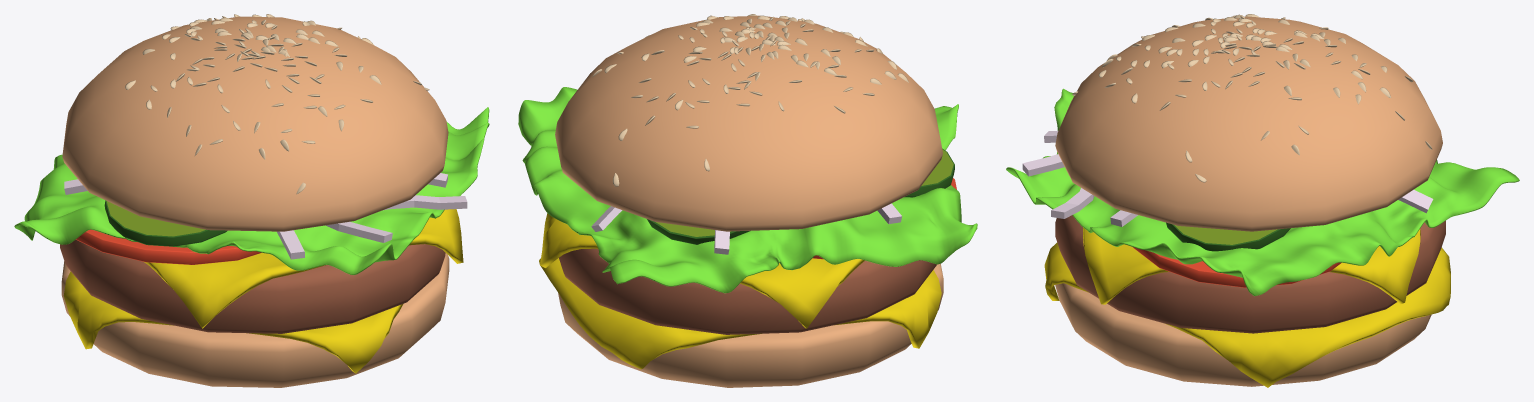
File: burger.glb
3 renders of one model, left to right at view 1: azimuth 30°, elevation 25°; view 2: azimuth 150°, elevation 25°; view 3: azimuth 270°, elevation 25°, orthographic.
Visible parts, largest first — view 1: buntop, meat, bunbottom, salade, cheesetop, cheesebottom, tomatethird, oignon, pickle1; view 2: buntop, salade, meat, bunbottom, cheesebottom, cheesetop, oignon, pickle3, pickle1; view 3: buntop, salade, meat, bunbottom, cheesebottom, cheesetop, oignon, pickle5, tomatefirst.
Boxes of the visible parts, x1,y1,x2,y2 form: buntop: [62, 14, 448, 231]; meat: [60, 239, 445, 333]; bunbottom: [61, 253, 449, 387]; salade: [14, 107, 489, 275]; cheesetop: [143, 209, 463, 328]; cheesebottom: [63, 271, 403, 373]; tomatethird: [76, 229, 261, 264]; oignon: [64, 173, 467, 259]; pickle1: [104, 200, 227, 246]; buntop: [555, 14, 942, 231]; salade: [518, 87, 977, 293]; meat: [559, 248, 937, 334]; bunbottom: [558, 264, 943, 387]; cheesebottom: [539, 258, 941, 369]; cheesetop: [540, 213, 864, 328]; oignon: [591, 203, 901, 254]; pickle3: [647, 219, 750, 244]; pickle1: [904, 148, 954, 197]; buntop: [1055, 14, 1442, 231]; salade: [1006, 88, 1519, 296]; meat: [1055, 215, 1445, 333]; bunbottom: [1055, 283, 1431, 386]; cheesebottom: [1044, 242, 1450, 387]; cheesetop: [1083, 227, 1420, 304]; oignon: [1022, 130, 1433, 226]; pickle5: [1166, 222, 1290, 251]; tomatefirst: [1133, 247, 1341, 287].
Bounding box in the file's own units: 0.828 × 0.4755 × 0.8016.
